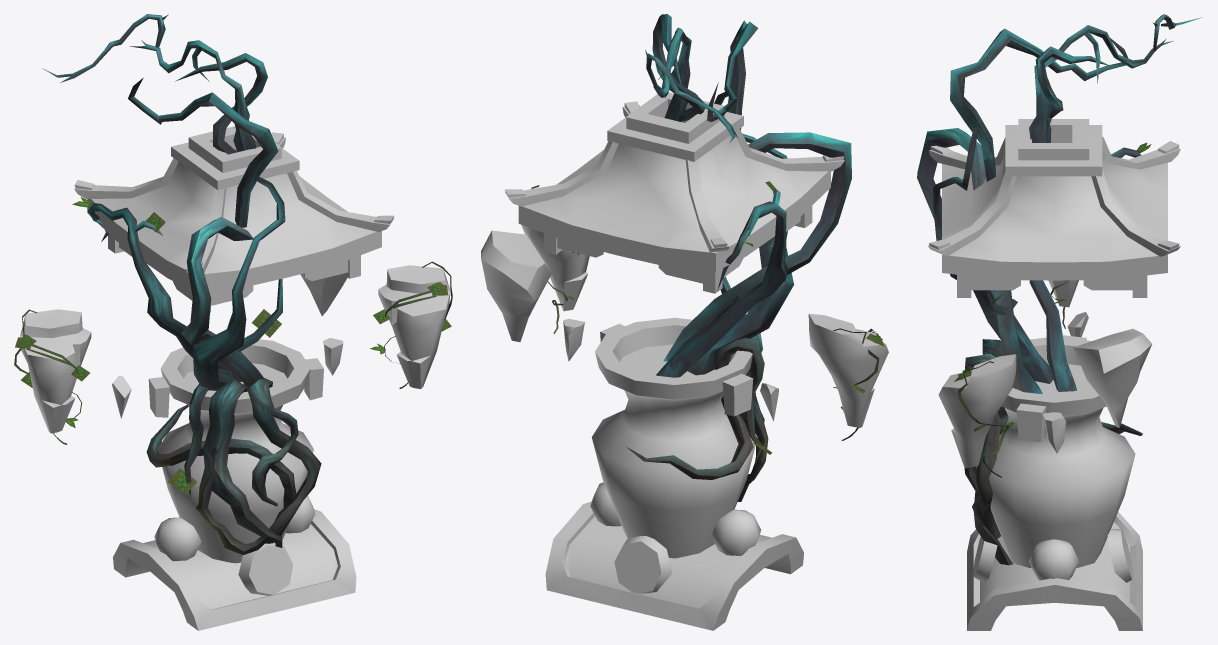
The model's file is fb_qingqs_jz_03.FBX.
3 renders of one model, left to right at view 1: azimuth 30°, elevation 25°; view 2: azimuth 150°, elevation 25°; view 3: azimuth 270°, elevation 25°, orthographic. The views are drawn at different scales.
Visible parts, largest first — view 1: fb_qingqs_jz_03_01, fb_qingqs_jz_03_02; view 2: fb_qingqs_jz_03_01, fb_qingqs_jz_03_02; view 3: fb_qingqs_jz_03_01, fb_qingqs_jz_03_02.
Part boxes in pixels (box(x1,y1,x2,y2)): fb_qingqs_jz_03_01: box(20, 126, 450, 630); fb_qingqs_jz_03_02: box(14, 14, 452, 554); fb_qingqs_jz_03_01: box(481, 92, 888, 630); fb_qingqs_jz_03_02: box(531, 14, 884, 501); fb_qingqs_jz_03_01: box(928, 119, 1180, 630); fb_qingqs_jz_03_02: box(917, 14, 1201, 565).
Size of the model in its own units: 924 by 1225 by 569.
